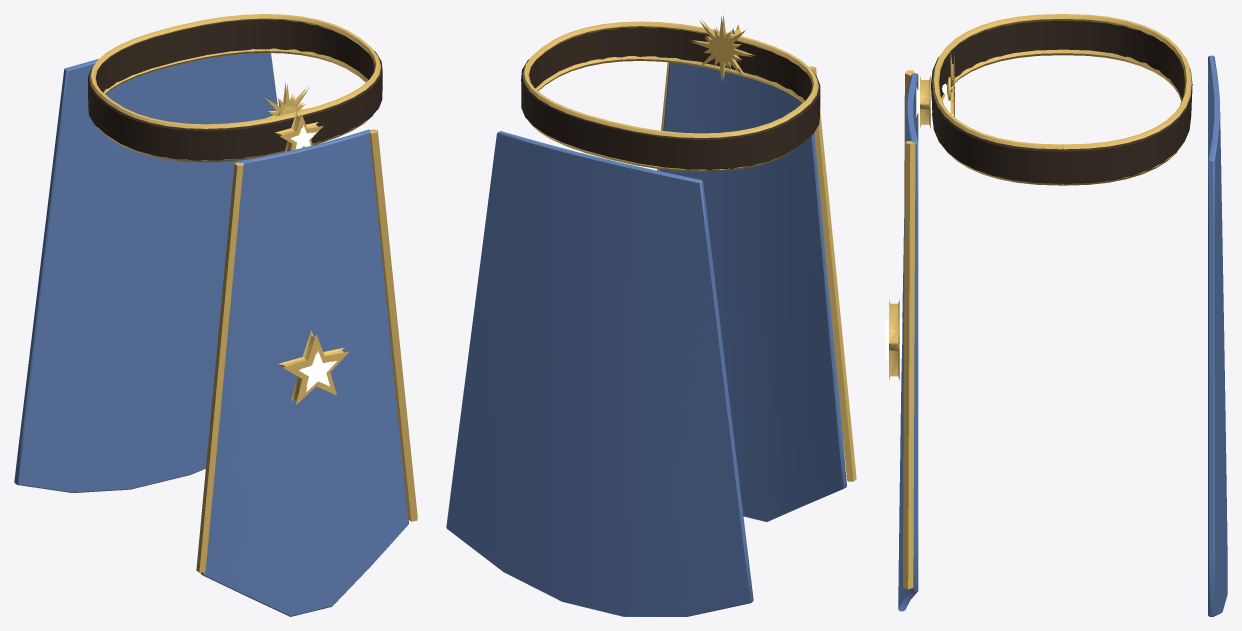
The model's file is asc_lightbinder_inner.glb.
The picture shows the model from 3 angles, left to right: view 1: azimuth 30°, elevation 25°; view 2: azimuth 150°, elevation 25°; view 3: azimuth 270°, elevation 25°; orthographic projection. The views are drawn at different scales.
Parts seen in each view (by area): view 1: asc_lightbinder_inner; view 2: asc_lightbinder_inner; view 3: asc_lightbinder_inner.
Boxes of the visible parts, <box> form: asc_lightbinder_inner: <box>14,14,417,616</box>; asc_lightbinder_inner: <box>446,15,856,616</box>; asc_lightbinder_inner: <box>885,14,1227,616</box>.
Bounding box in the file's own units: 0.5401 × 0.8767 × 0.4972.
